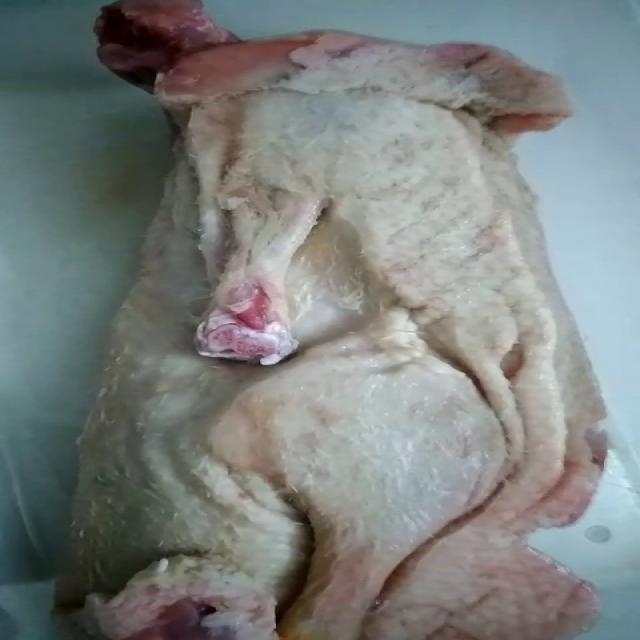chicken: (53, 0, 610, 638)
